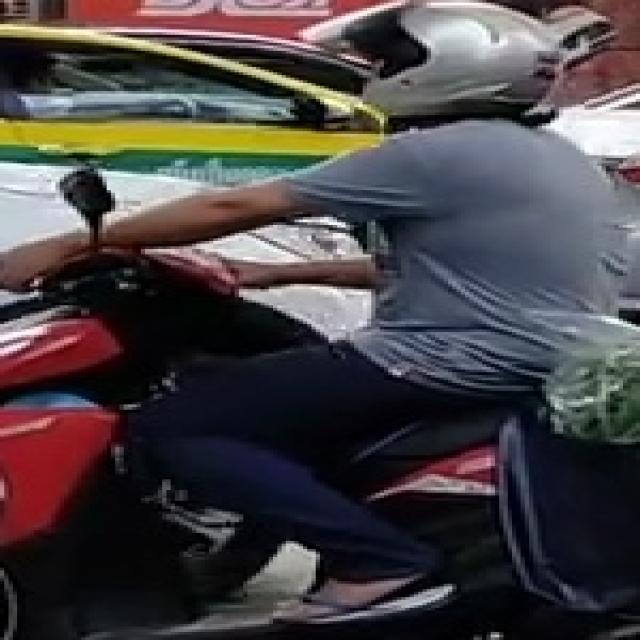helmet: (294, 0, 564, 118)
